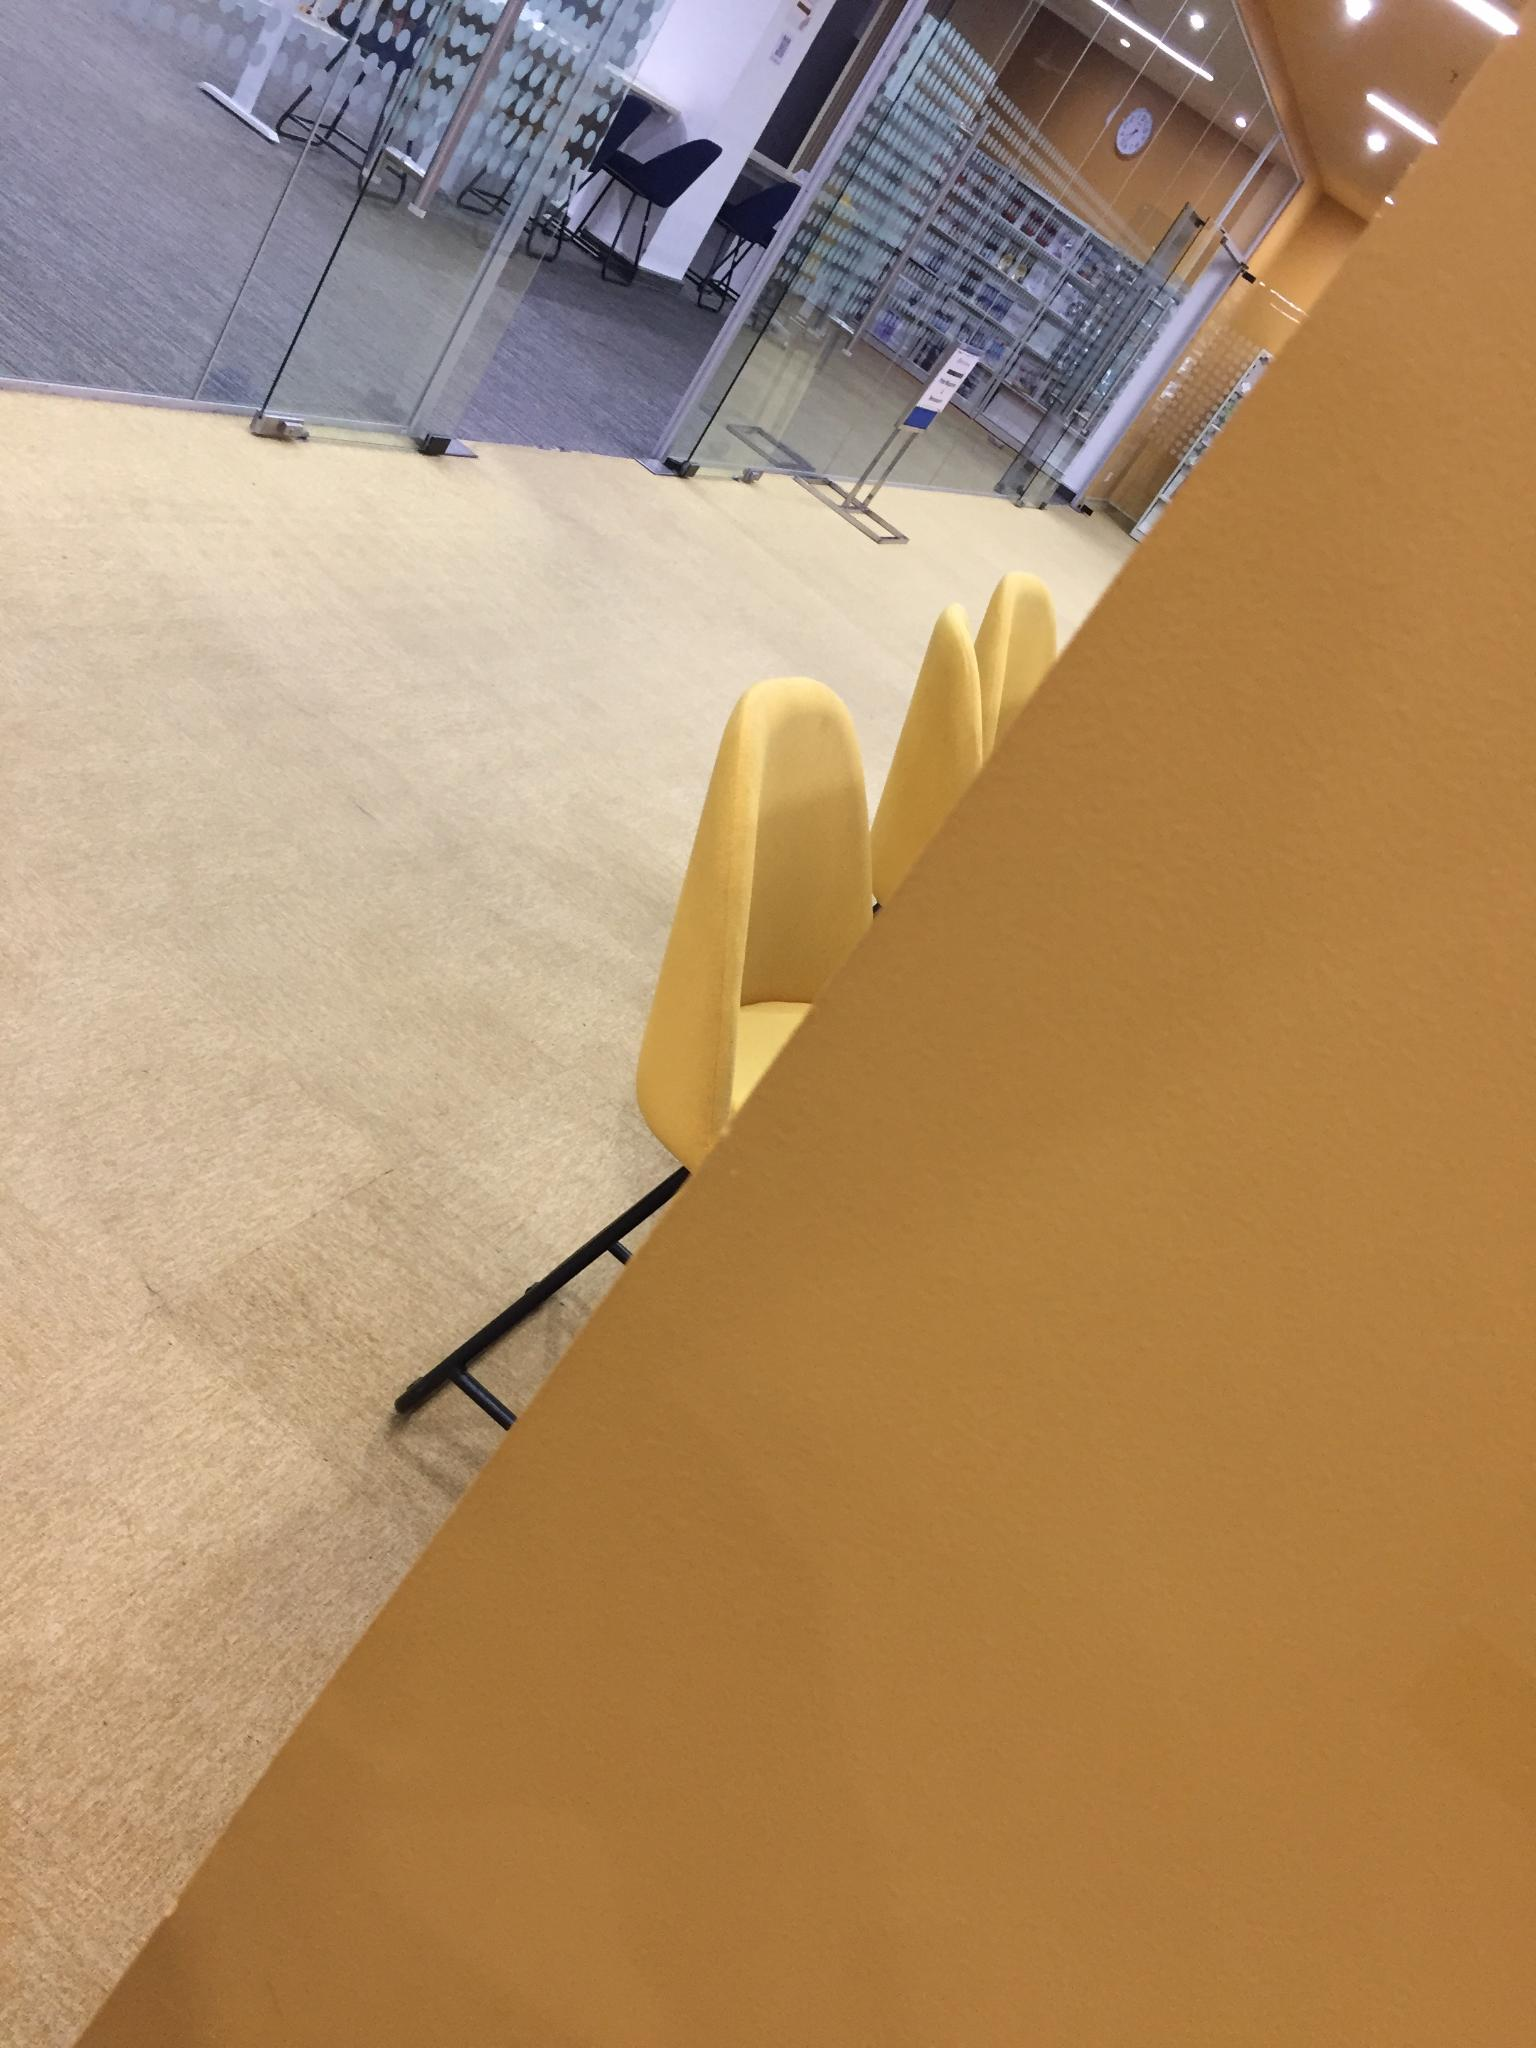chair: (389, 739, 1076, 1464), (286, 0, 510, 216), (868, 601, 983, 910), (561, 97, 736, 279), (694, 168, 820, 319), (973, 569, 1057, 761)
